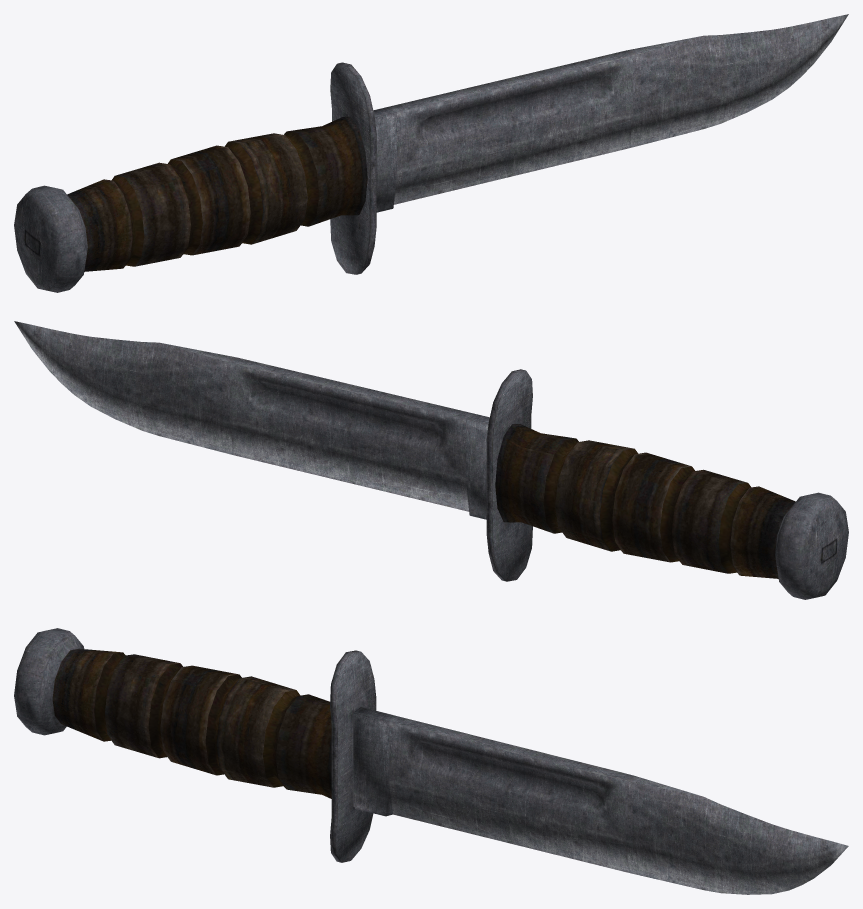
Rendered from knife.fbx.
The picture shows the model from 3 angles, top to bottom: view 1: azimuth 30°, elevation 25°; view 2: azimuth 150°, elevation 25°; view 3: azimuth 330°, elevation 25°; orthographic projection.
Parts seen in each view (by area): view 1: Combat_Knife; view 2: Combat_Knife; view 3: Combat_Knife.
Boxes of the visible parts, left/top/right/bottom form: Combat_Knife: left=14, top=14, right=848, bottom=292; Combat_Knife: left=14, top=321, right=848, bottom=599; Combat_Knife: left=14, top=628, right=848, bottom=894.
Size of the model in its own units: 3052 by 740 by 330.
